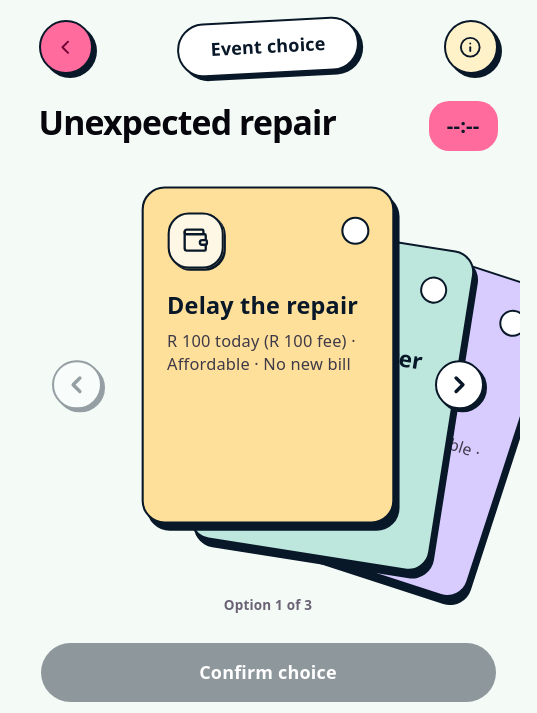
Surprise event reveal and decision › steps through the options with the arrow buttons
This screenshot has width=537, height=713.
Check: the text "Option 1 of 3" is shown, box [224,596,312,614]
Check: the button named "Previous option" is disabled, box [52,360,102,409]
Click the button named "Next option".
click(459, 385)  # box [434,360,484,409]
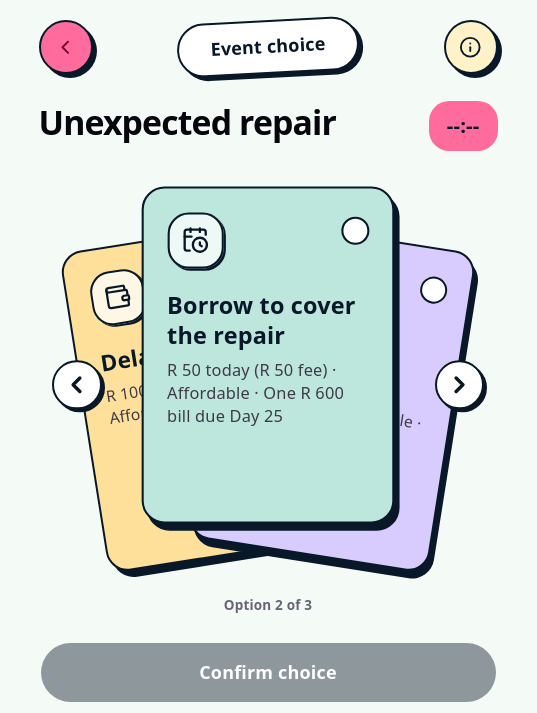
Click the button named "Next option".
click(459, 385)  # box [434,360,484,409]
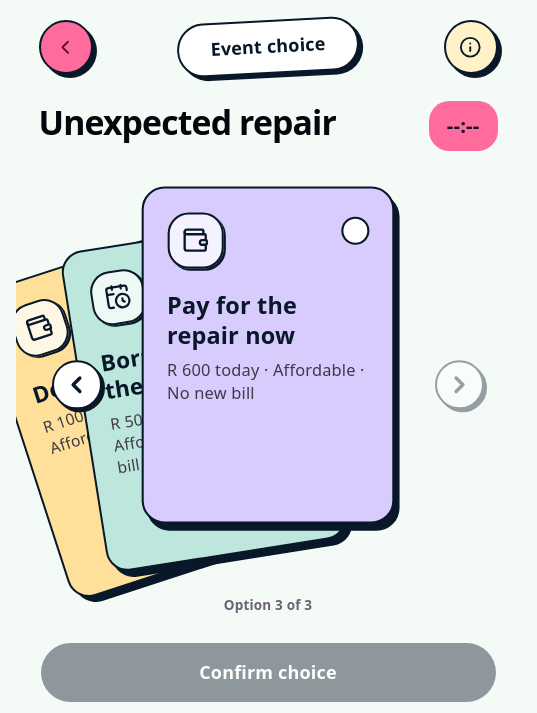
Check: the text "Option 3 of 3" is shown, box [224,596,312,614]
Check: the button named "Next option" is disabled, box [434,360,484,409]
Click the button named "Previous option".
click(77, 385)  # box [52,360,102,409]
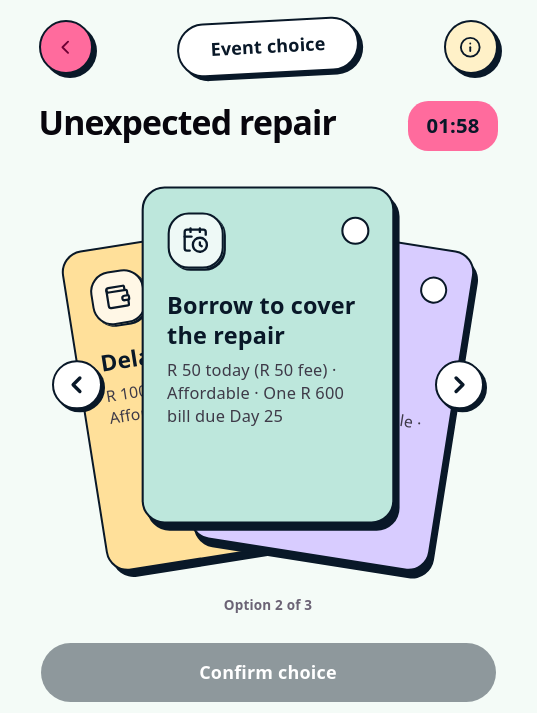
Check: the button "Confirm choice" is disabled, box [38,641,498,704]
Check: the text "Option 2 of 3" is shown, box [224,596,312,614]
